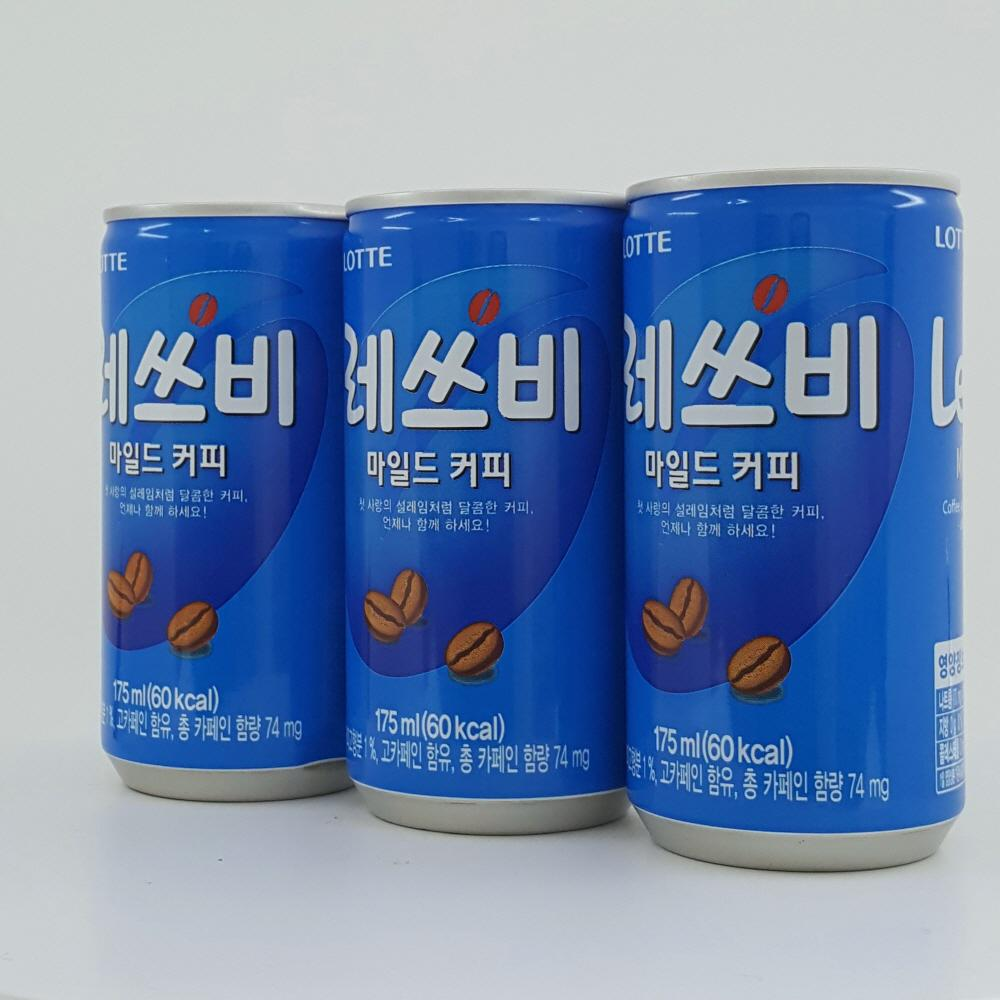letsbe: (628, 163, 972, 875), (341, 188, 632, 840), (96, 198, 365, 800)
